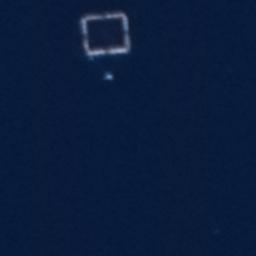square_solid: (76, 7, 134, 60)
